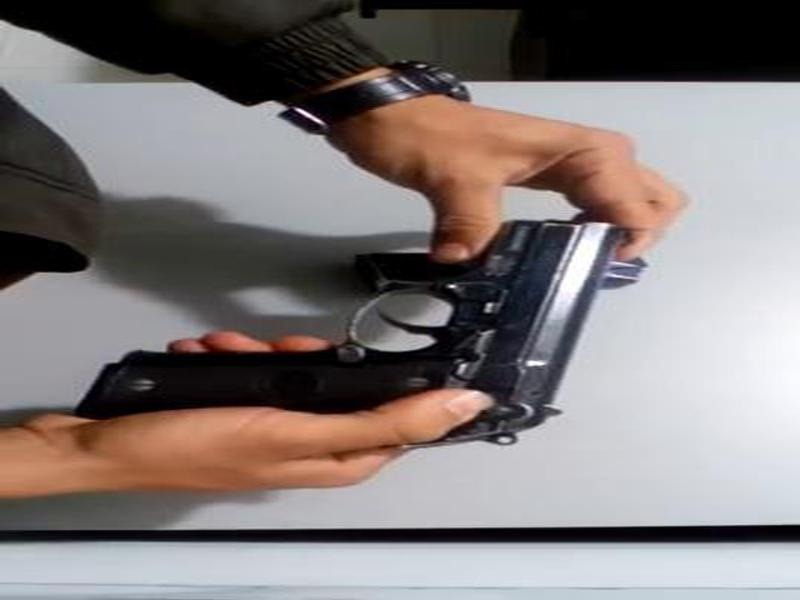Pistola: (100, 190, 640, 454)
